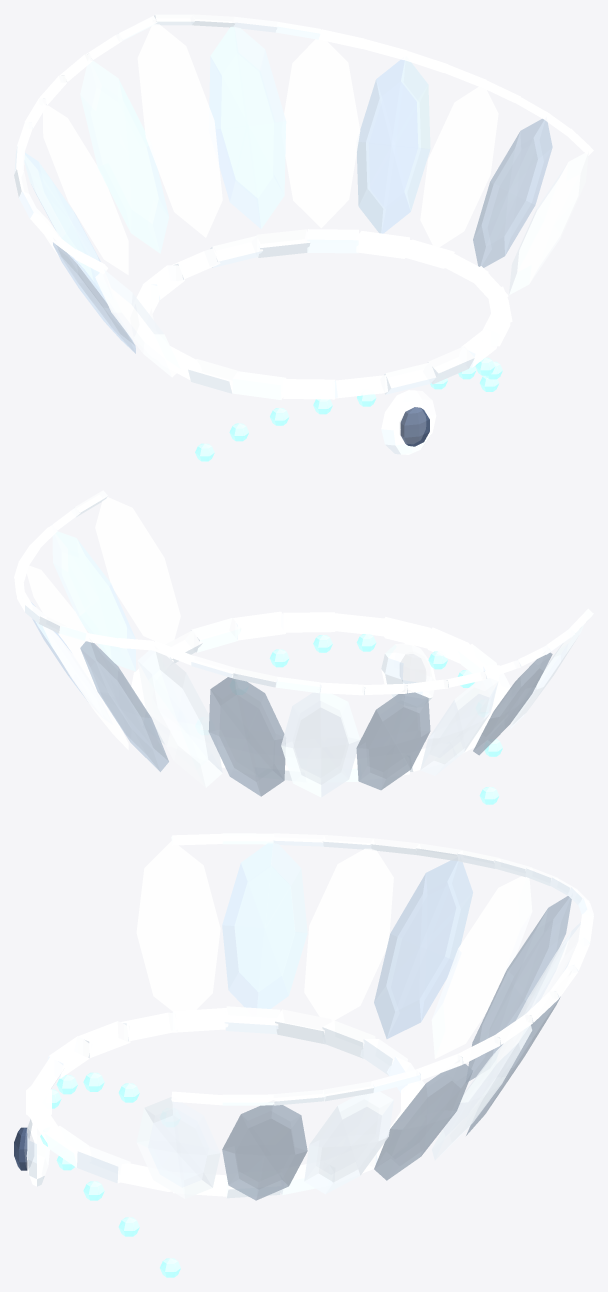
File: queen_ismay_collar.glb
3 renders of one model, top to bottom at view 1: azimuth 30°, elevation 25°; view 2: azimuth 150°, elevation 25°; view 3: azimuth 270°, elevation 25°, orthographic. The views are drawn at different scales.
Parts seen in each view (by area): view 1: queen_ismay_collar; view 2: queen_ismay_collar; view 3: queen_ismay_collar.
Part boxes in pixels (x1=…): queen_ismay_collar: x1=14, y1=14, x2=593, y2=461; queen_ismay_collar: x1=14, y1=490, x2=593, y2=804; queen_ismay_collar: x1=14, y1=833, x2=593, y2=1277.
Bounding box in the file's own units: 1.47 × 0.7507 × 1.35.
